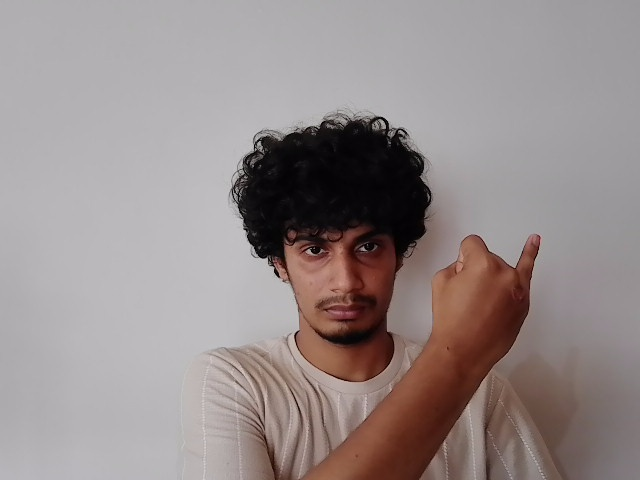bad: (430, 230, 542, 371)
